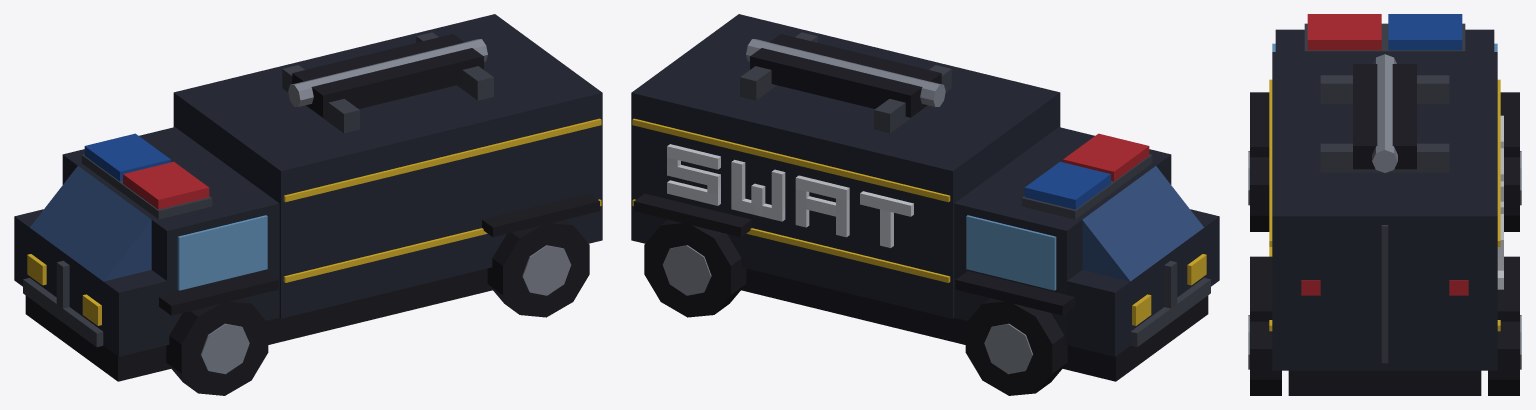
File: Decor_PoliceStation_Swat.fbx
3 views of the same model, side by side, from view 1: azimuth 30°, elevation 25°; view 2: azimuth 150°, elevation 25°; view 3: azimuth 270°, elevation 25° (orthographic). The views are drawn at different scales.
Parts seen in each view (by area): view 1: Swat_Body; view 2: Swat_Body; view 3: Swat_Body.
Boxes of the visible parts, x1,y1,x2,y2 form: Swat_Body: (14, 14, 602, 395); Swat_Body: (631, 14, 1219, 395); Swat_Body: (1248, 14, 1521, 395).
Bounding box in the file's own units: 18.25 × 8.2 × 8.4.
